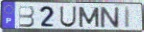2: (39, 5, 57, 29)
B: (18, 5, 36, 28)
I: (124, 6, 132, 29)
M: (77, 6, 101, 28)
N: (98, 6, 120, 29)
U: (59, 6, 78, 29)
